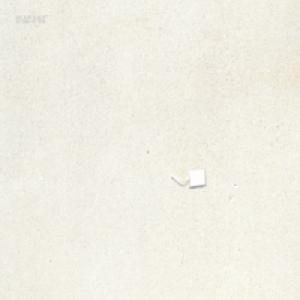LuggageTag: (170, 167, 206, 188)
